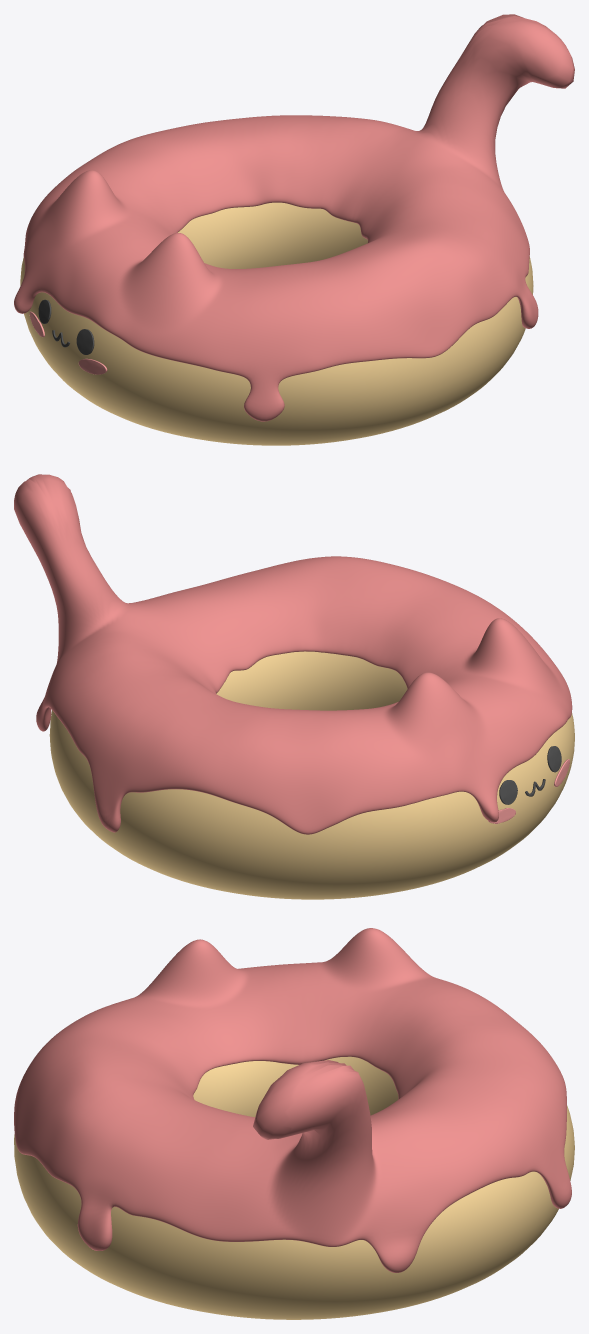
File: donut.fbx
3 views of the same model, one above another, from view 1: azimuth 30°, elevation 25°; view 2: azimuth 150°, elevation 25°; view 3: azimuth 270°, elevation 25° (orthographic). The views are drawn at different scales.
Visible parts, largest first — view 1: polewka, donut, twarz; view 2: polewka, donut, twarz; view 3: polewka, donut.
Part boxes in pixels (<box>): polewka: <box>14,14,574,421</box>; donut: <box>20,202,533,445</box>; twarz: <box>29,299,107,374</box>; polewka: <box>14,474,572,834</box>; donut: <box>49,651,574,899</box>; twarz: <box>488,746,569,823</box>; polewka: <box>14,928,571,1272</box>; donut: <box>14,1056,574,1319</box>.
Size of the model in its own units: 16.87 by 8.72 by 14.67.
